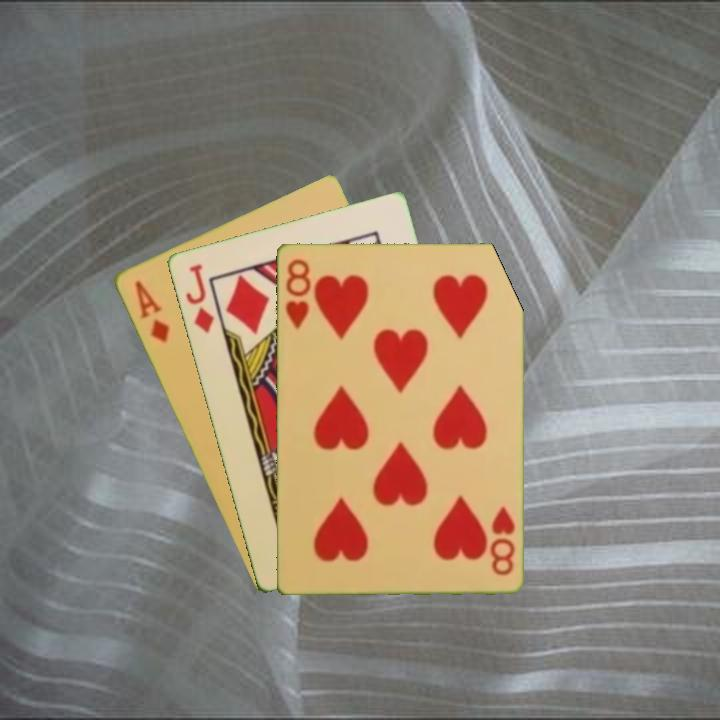8h: (281, 255, 313, 332), (486, 503, 518, 578)
Ad: (130, 276, 172, 346)
Jd: (181, 260, 217, 336)
